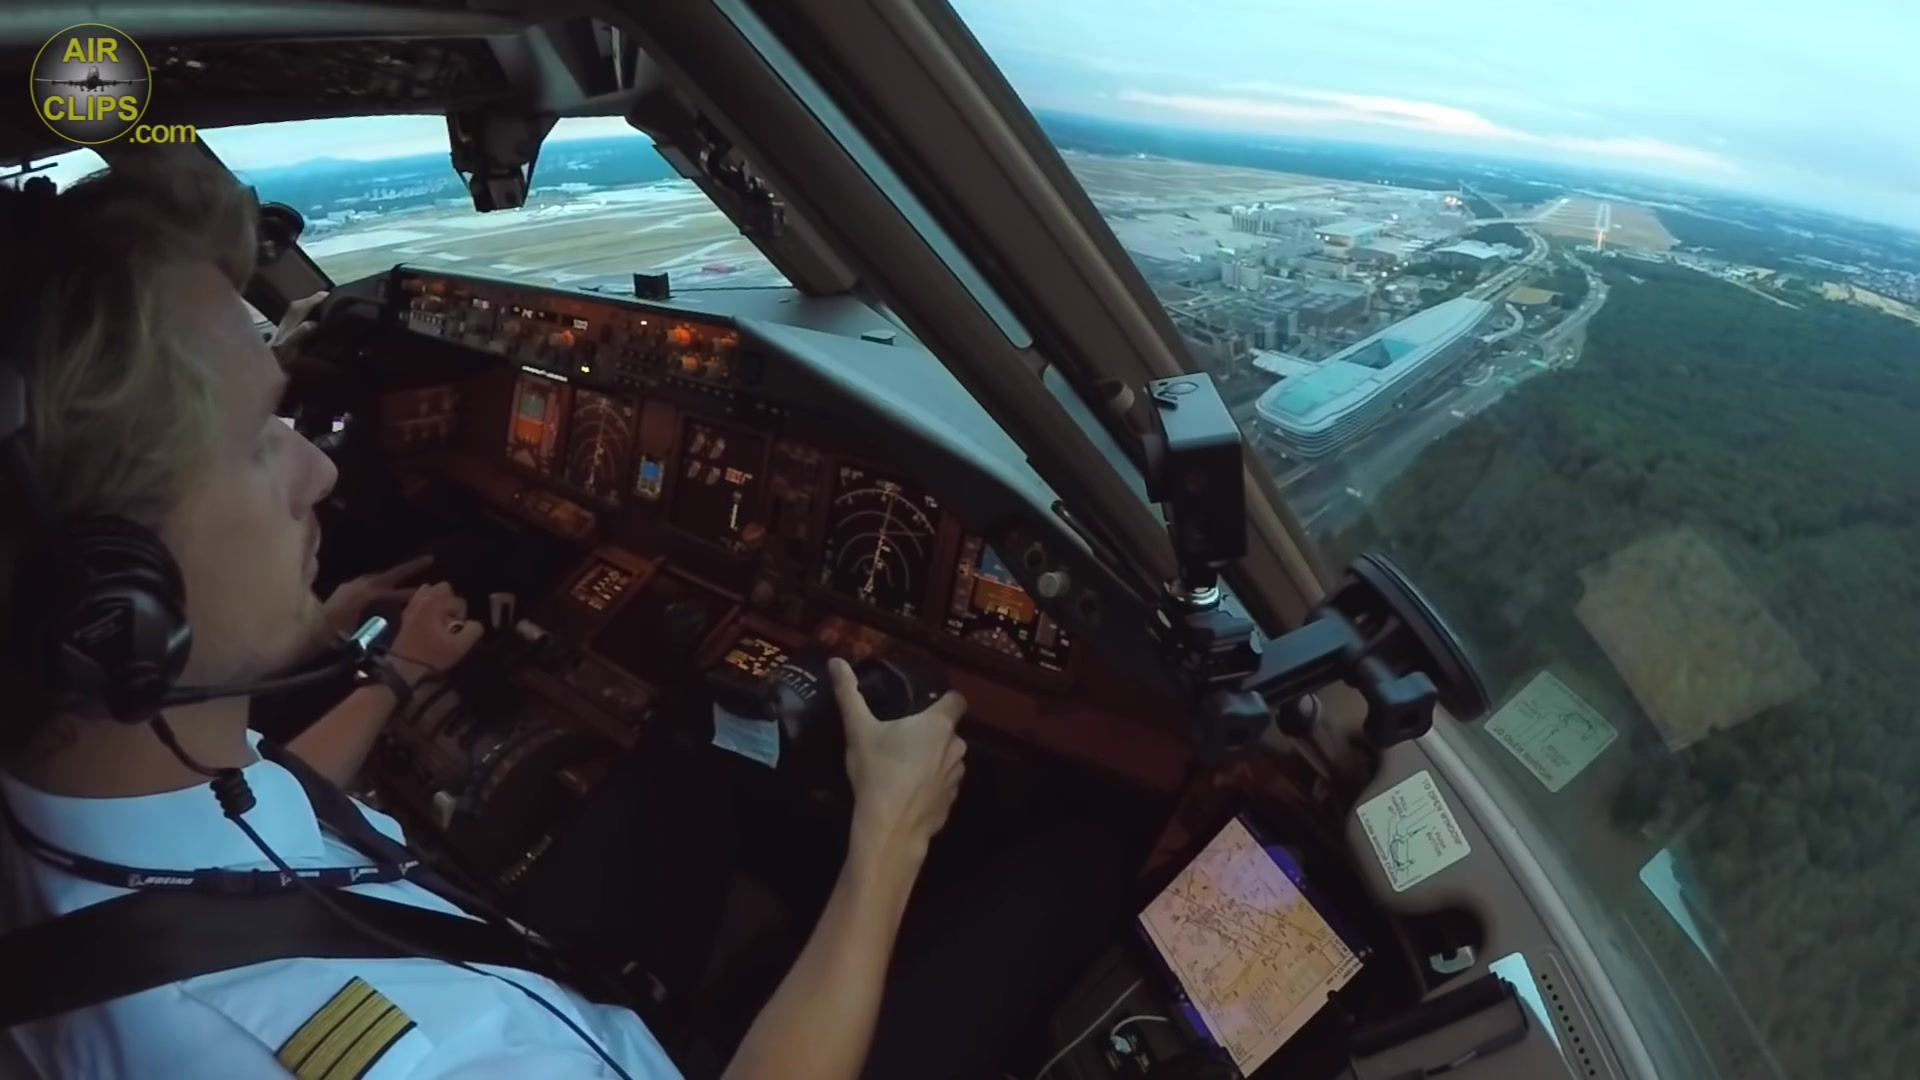runway: (1592, 202, 1614, 233)
